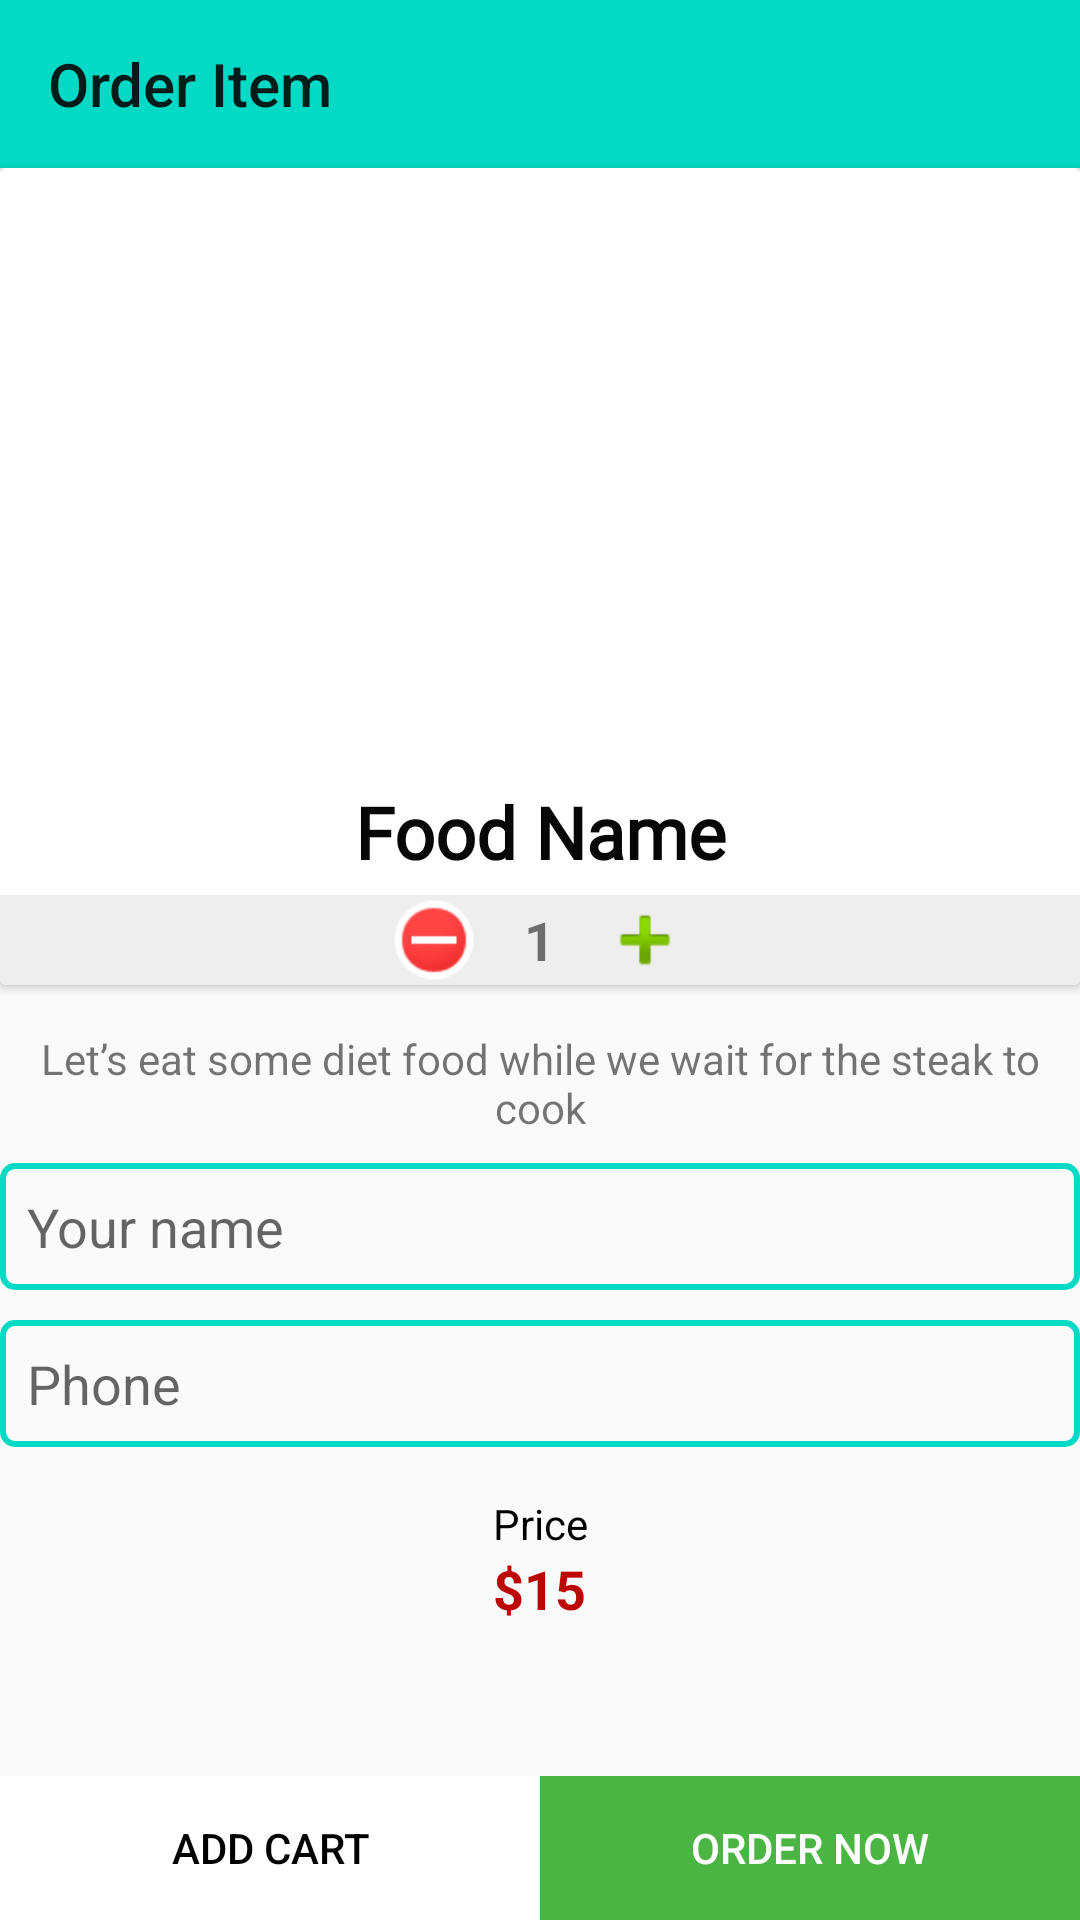

Point at icon controls on the screen. Image size 1080 × 1920, points as point (x, y).
add: point (645, 939)
presence busy: point (434, 940)
